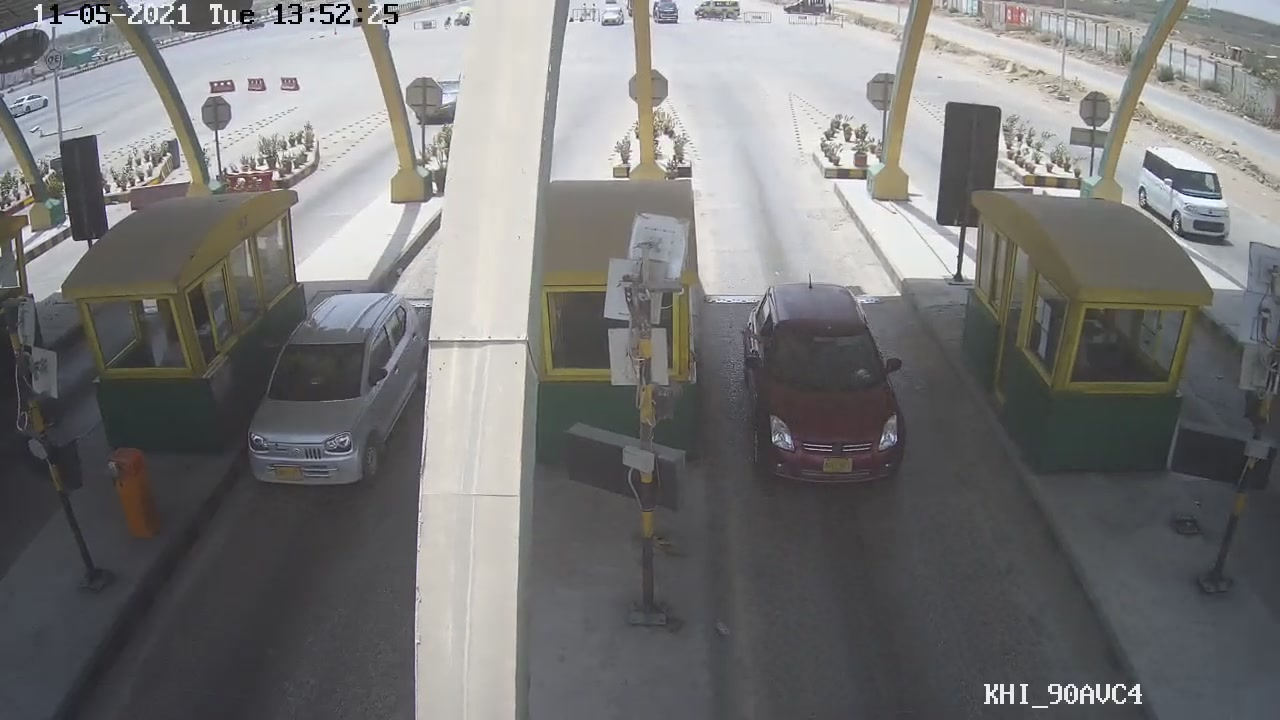F1: (733, 275, 919, 492)
